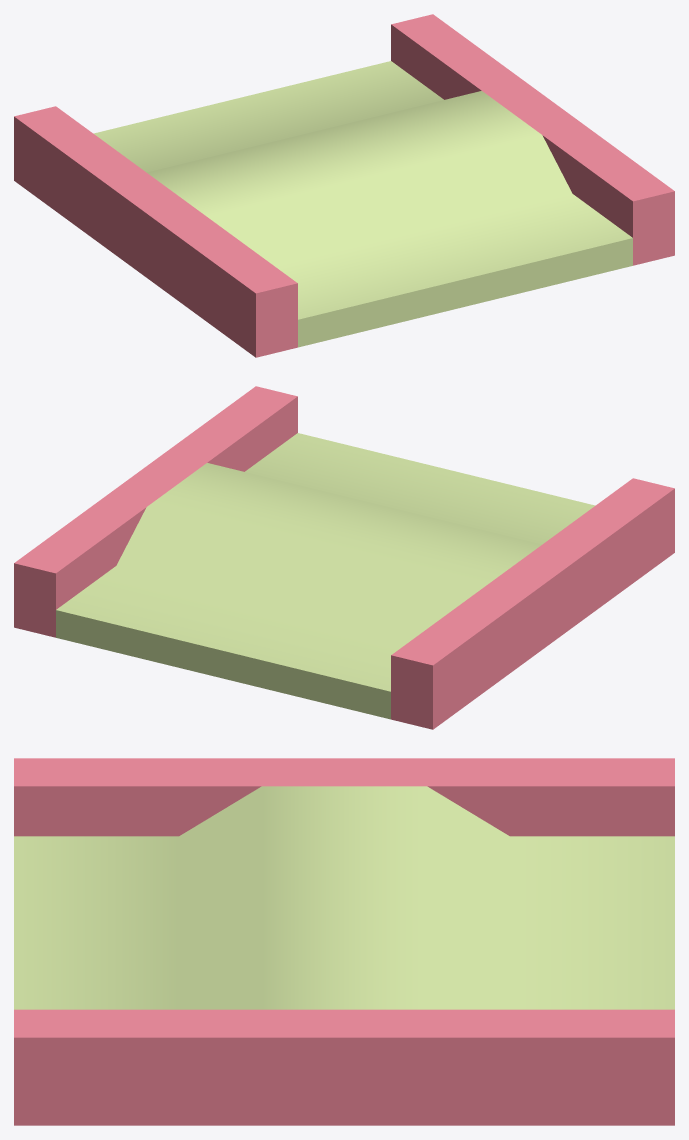
Rendered from hillSquare.fbx.
The picture shows the model from 3 angles, top to bottom: view 1: azimuth 30°, elevation 25°; view 2: azimuth 150°, elevation 25°; view 3: azimuth 270°, elevation 25°; orthographic projection. The views are drawn at different scales.
Parts seen in each view (by area): view 1: hillSquare; view 2: hillSquare; view 3: hillSquare.
Part boxes in pixels (x1,y1,x2,y2): hillSquare: [14, 14, 674, 357]; hillSquare: [14, 386, 674, 729]; hillSquare: [14, 758, 674, 1125].
Size of the model in its own units: 99.99 by 14.67 by 99.99.
